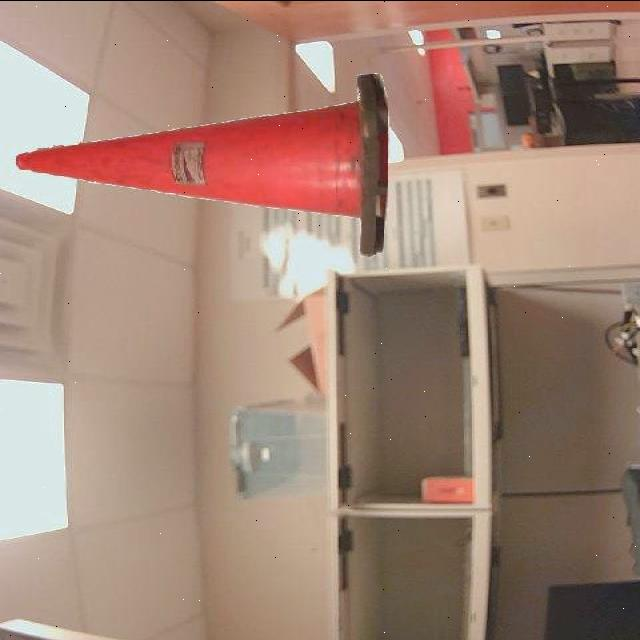traffic cone: (8, 62, 406, 264)
